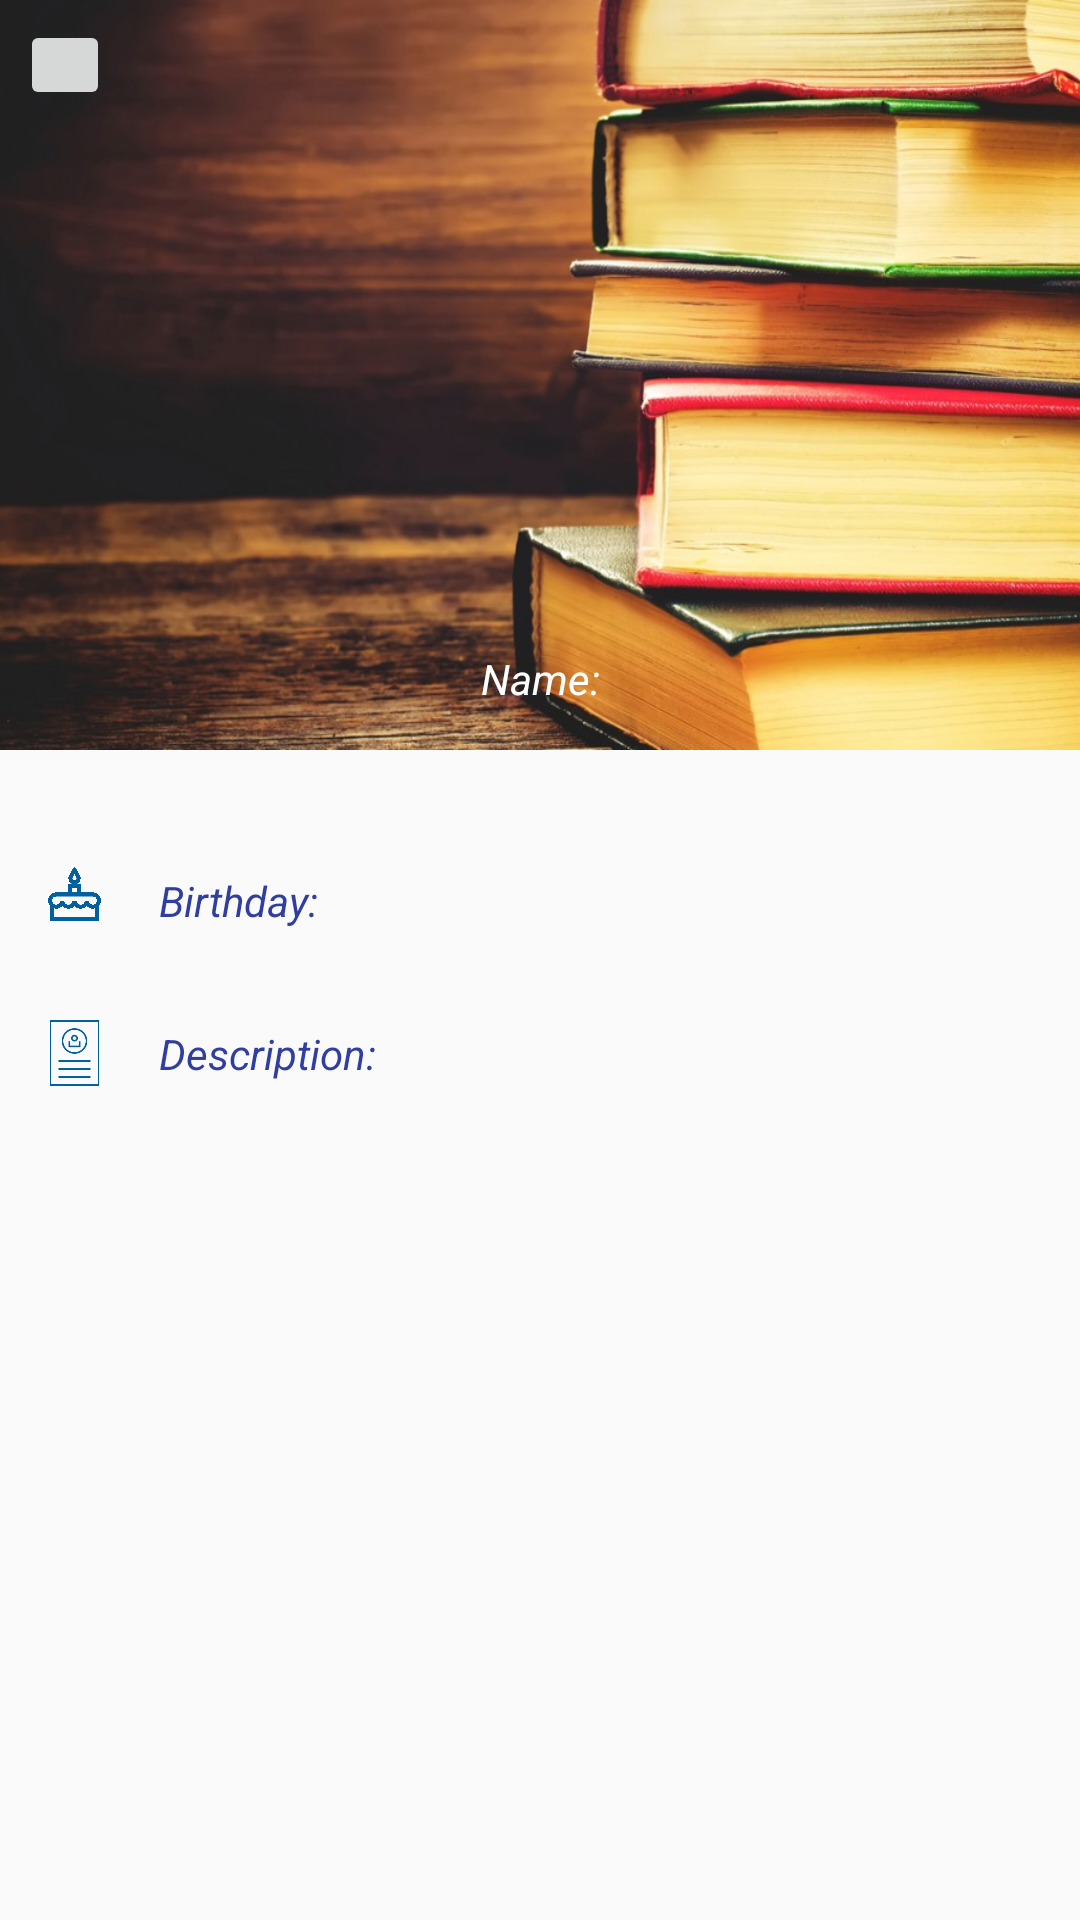

Locate icon controls on the screen. Image size 1080 × 1920, boxes as (x1, y1, x2, y2).
bio: (50, 1020, 99, 1086)
